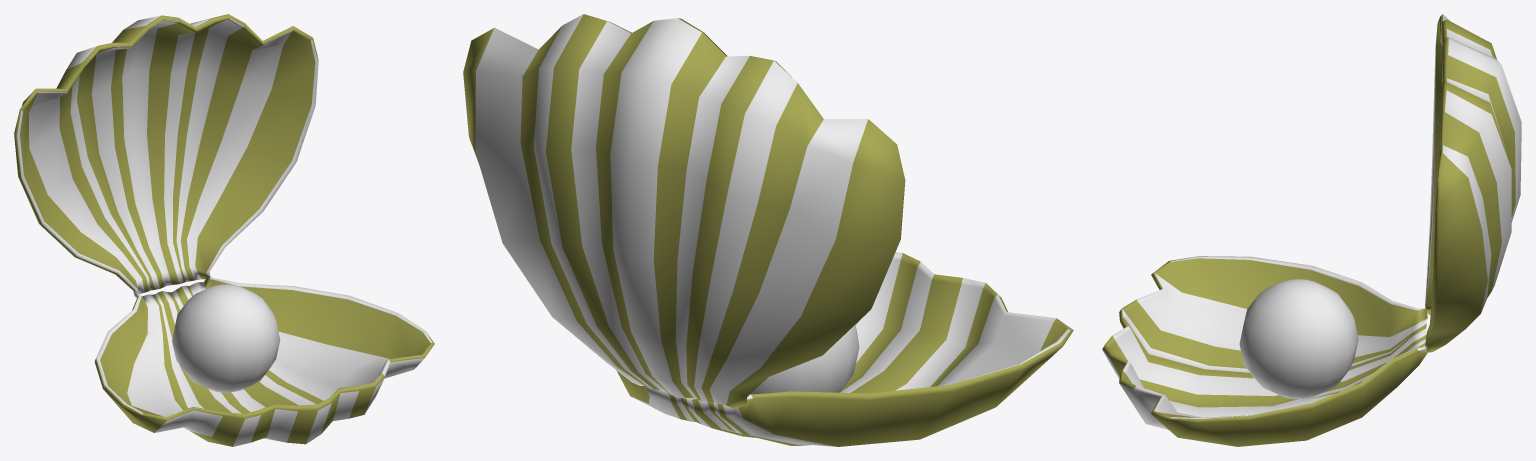
The model's file is Seashell unLIT(1).fbx.
The picture shows the model from 3 angles, left to right: view 1: azimuth 30°, elevation 25°; view 2: azimuth 150°, elevation 25°; view 3: azimuth 270°, elevation 25°; orthographic projection. The views are drawn at different scales.
Parts seen in each view (by area): view 1: OPtimized; view 2: OPtimized; view 3: OPtimized.
Boxes of the visible parts, x1,y1,x2,y2 form: OPtimized: (14, 14, 434, 446); OPtimized: (463, 14, 1073, 446); OPtimized: (1102, 14, 1521, 446).
Bounding box in the file's own units: 255 × 272 × 275.
